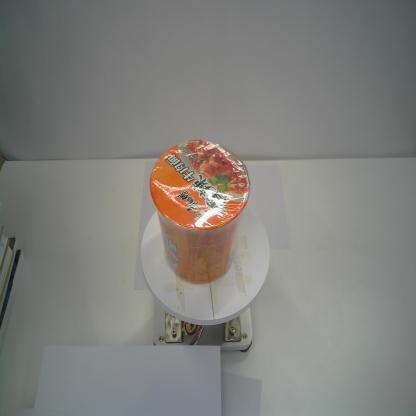Instant Noodles: (148, 138, 252, 286)
